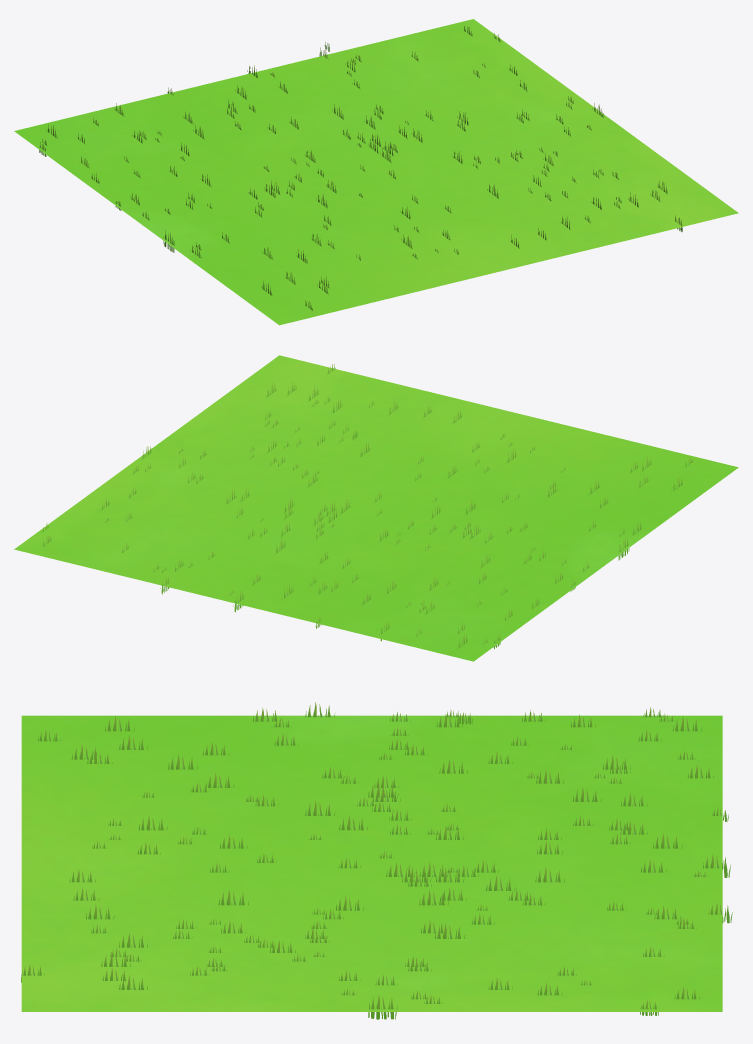
File: GroundV2.fbx
The picture shows the model from 3 angles, top to bottom: view 1: azimuth 30°, elevation 25°; view 2: azimuth 150°, elevation 25°; view 3: azimuth 270°, elevation 25°; orthographic projection. The views are drawn at different scales.
Visible parts, largest first — view 1: Plane; view 2: Plane; view 3: Plane.
Boxes of the visible parts, <box> form: Plane: <box>14,19,738,325</box>; Plane: <box>14,355,738,661</box>; Plane: <box>21,715,722,1011</box>.
Size of the model in its own units: 6132 by 1571 by 5929.
